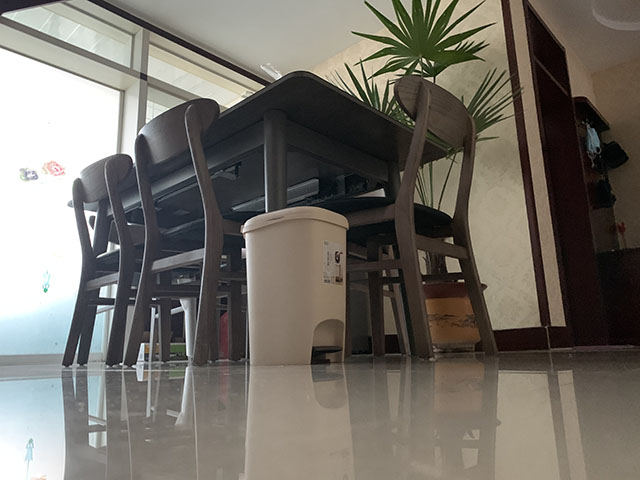stool: (308, 74, 501, 360), (121, 97, 265, 370), (61, 152, 200, 369)
table: (67, 69, 450, 362)
trashcan: (239, 205, 349, 366)
